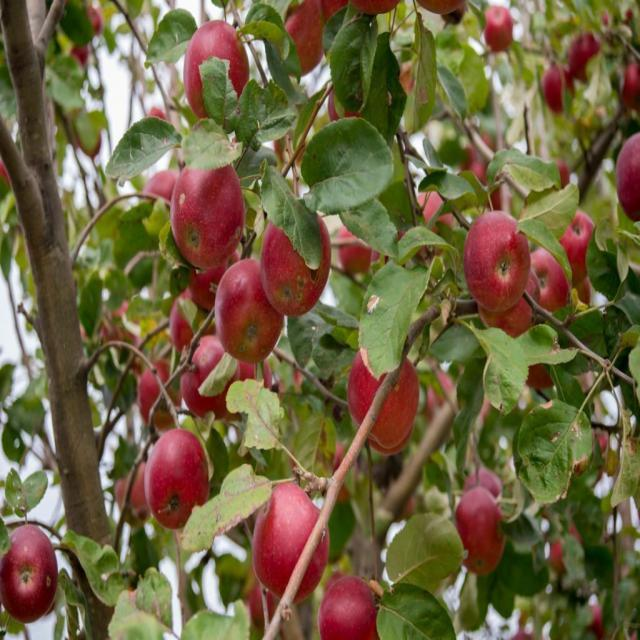Red Apple: (256, 483, 331, 597), (349, 337, 422, 449), (175, 161, 246, 269), (264, 208, 331, 309), (187, 21, 255, 116), (218, 261, 279, 362), (467, 218, 529, 311), (148, 431, 208, 523), (1, 528, 56, 615), (181, 333, 240, 414), (458, 486, 509, 569), (322, 571, 382, 640), (271, 3, 326, 69), (484, 272, 540, 333), (190, 248, 241, 308), (532, 246, 572, 317), (139, 364, 182, 427), (172, 289, 214, 351), (560, 210, 597, 278), (339, 219, 379, 276), (114, 461, 157, 514), (419, 191, 459, 247), (617, 135, 640, 222), (466, 466, 507, 509), (144, 171, 178, 220), (571, 33, 603, 80), (544, 67, 576, 112), (489, 7, 515, 48), (623, 69, 640, 104)
